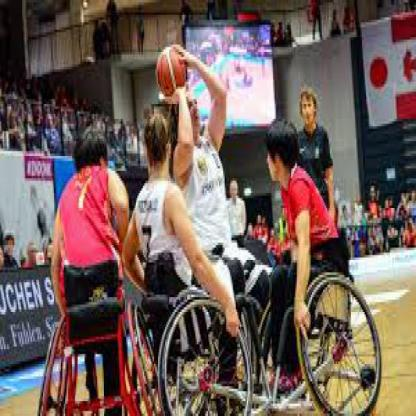basketball: (157, 44, 187, 96)
